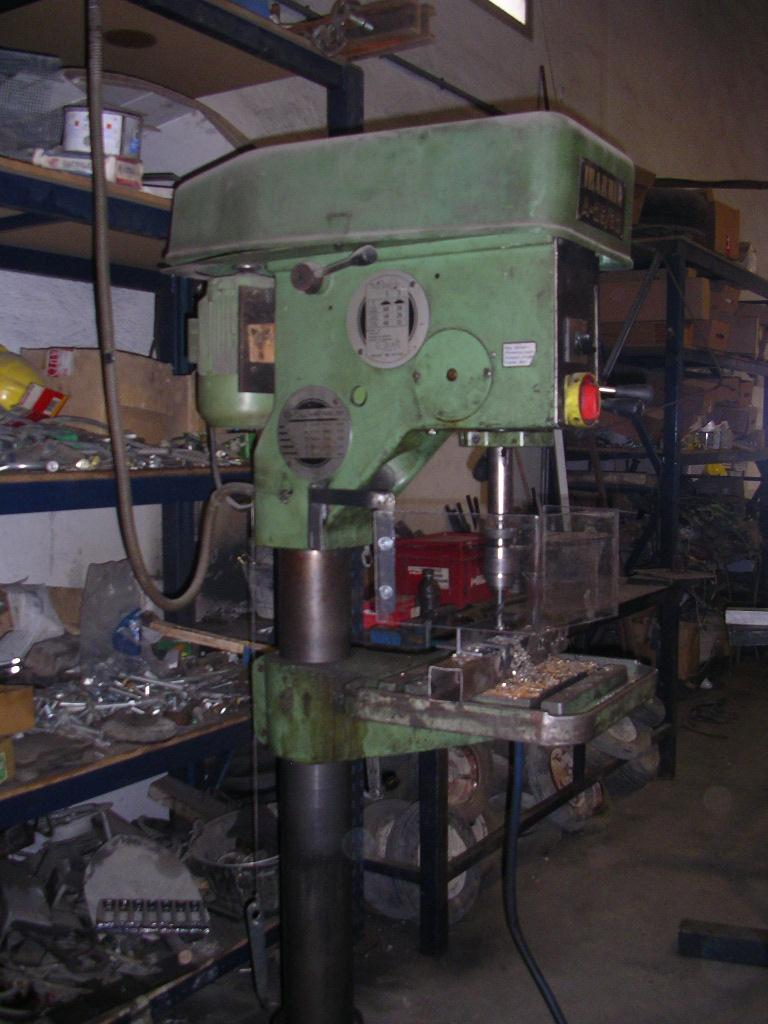falta_resguardo: (483, 437, 515, 636)
sin_senalizacion_riesgos: (258, 149, 535, 220)
